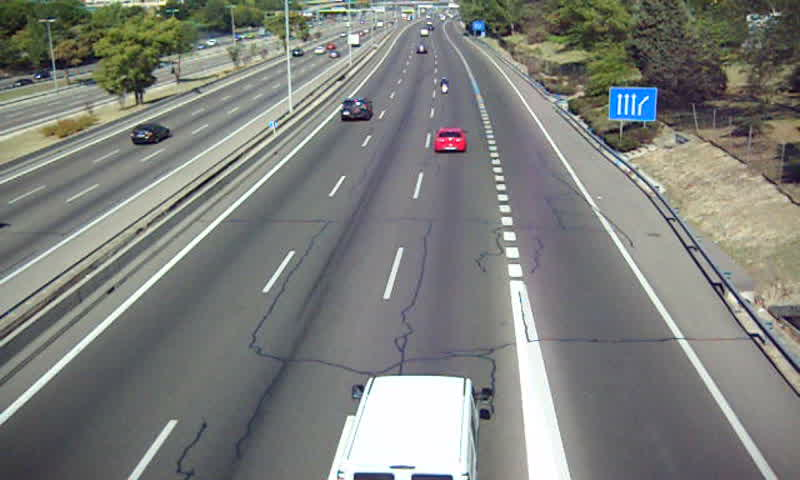car: (436, 126, 467, 152), (340, 98, 374, 120)
motorcycle: (438, 77, 451, 94)
van: (343, 376, 479, 480)
